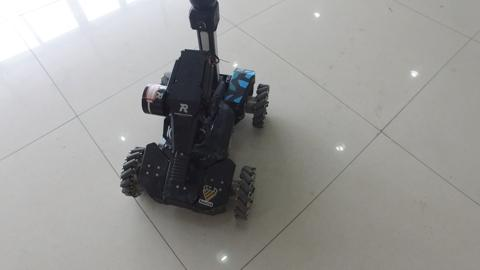chariot: (126, 14, 275, 238)
